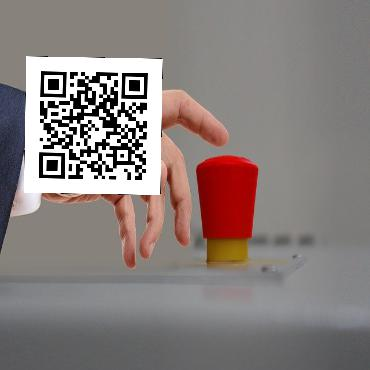qr_code: (24, 56, 162, 194)
